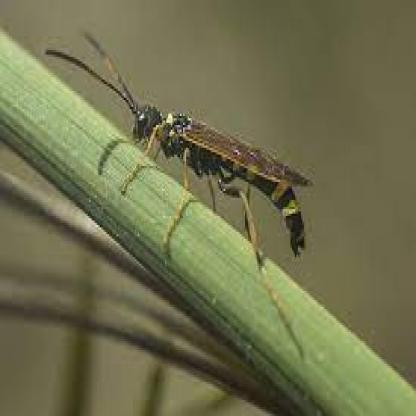sawfly: (52, 17, 316, 323)
